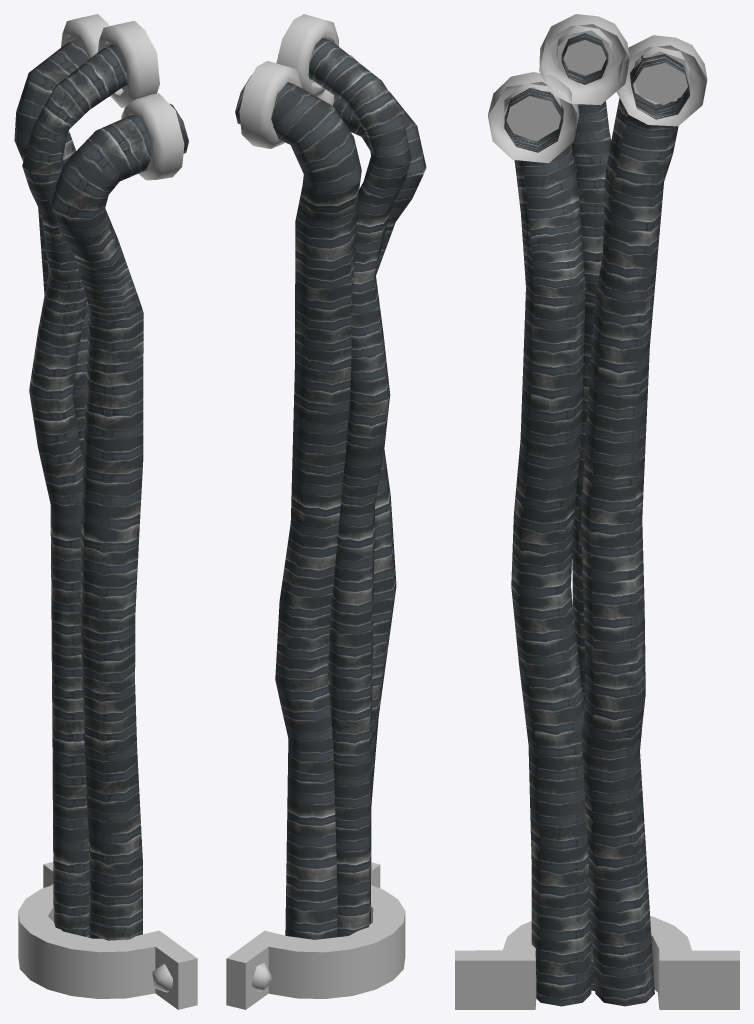
The model's file is SM_wall_wire_03.fbx.
3 views of the same model, side by side, from view 1: azimuth 30°, elevation 25°; view 2: azimuth 150°, elevation 25°; view 3: azimuth 270°, elevation 25° (orthographic). The views are drawn at different scales.
Parts seen in each view (by area): view 1: SM_wall_wire_03_LOD0; view 2: SM_wall_wire_03_LOD0; view 3: SM_wall_wire_03_LOD0.
Part boxes in pixels (<box>): SM_wall_wire_03_LOD0: <box>14,14,197,1009</box>; SM_wall_wire_03_LOD0: <box>226,14,426,1009</box>; SM_wall_wire_03_LOD0: <box>455,14,739,1009</box>.
Size of the model in its own units: 14.53 by 26.36 by 101.
